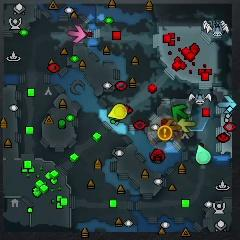p2: (196, 145, 212, 164)
p4: (108, 104, 128, 120)
x1: (67, 26, 87, 43)
x2: (177, 117, 198, 134)
x3: (218, 96, 237, 112)
x4: (172, 105, 189, 120)
x5: (163, 120, 181, 137)
